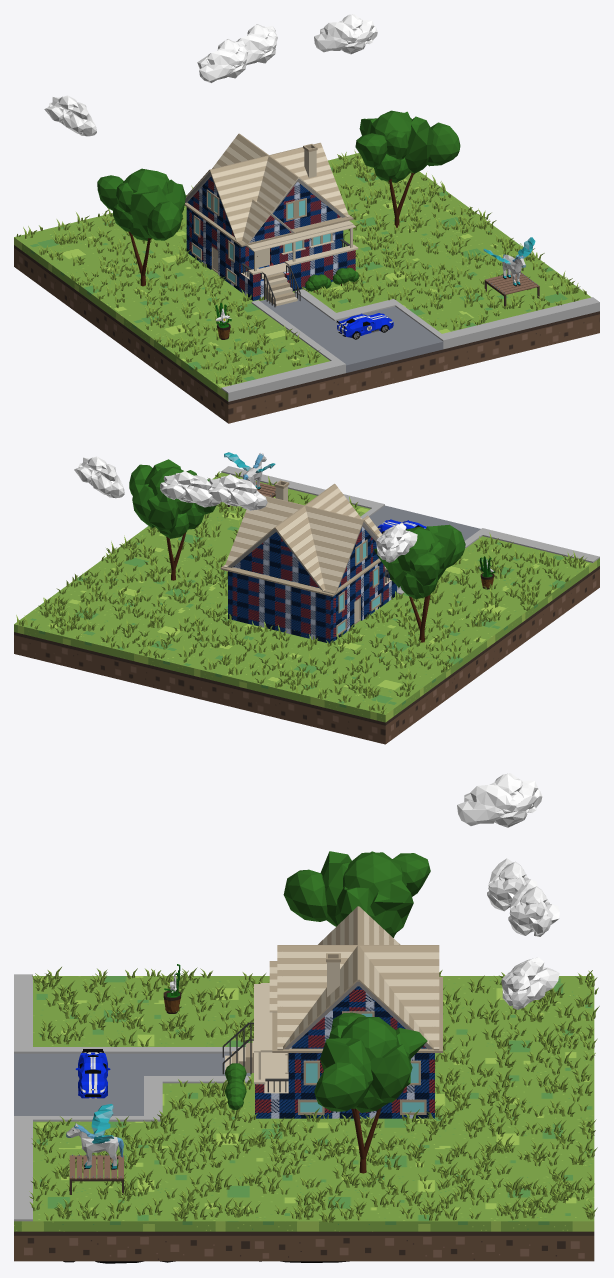
3 renders of one model, top to bottom at view 1: azimuth 30°, elevation 25°; view 2: azimuth 150°, elevation 25°; view 3: azimuth 270°, elevation 25°, orthographic. The views are drawn at different scales.
Parts seen in each view (by area): view 1: Cube.006, Cube.171, Circle.012_Grass_0.192, Cube.007, tree, tree.001, VEHICLES_RACING_CAR, ANIMAL_PEGASO, Cube.009; view 2: Cube.006, Cube.171, Circle.012_Grass_0.192, Cube.007, tree.001, tree, ANIMAL_PEGASO; view 3: Cube.006, Circle.012_Grass_0.192, Cube.171, tree, Cube.007, tree.001, ANIMAL_PEGASO, VEHICLES_RACING_CAR, Cube.009.
Part boxes in pixels (bbox=[...]): Cube.006: bbox=[14, 153, 599, 423]; Cube.171: bbox=[184, 133, 358, 307]; Circle.012_Grass_0.192: bbox=[16, 150, 586, 385]; Cube.007: bbox=[44, 14, 377, 136]; tree: bbox=[355, 110, 460, 227]; tree.001: bbox=[97, 168, 185, 286]; VEHICLES_RACING_CAR: bbox=[336, 313, 393, 339]; ANIMAL_PEGASO: bbox=[483, 237, 535, 286]; Cube.009: bbox=[484, 272, 539, 306]; Cube.006: bbox=[14, 466, 599, 744]; Cube.171: bbox=[220, 480, 396, 643]; Circle.012_Grass_0.192: bbox=[16, 471, 586, 713]; Cube.007: bbox=[74, 456, 417, 562]; tree.001: bbox=[373, 524, 465, 642]; tree: bbox=[129, 459, 216, 580]; ANIMAL_PEGASO: bbox=[224, 452, 275, 489]; Cube.006: bbox=[14, 974, 594, 1261]; Circle.012_Grass_0.192: bbox=[29, 967, 599, 1222]; Cube.171: bbox=[222, 906, 442, 1118]; tree: bbox=[314, 1012, 427, 1173]; Cube.007: bbox=[457, 773, 559, 1009]; tree.001: bbox=[283, 851, 430, 937]; ANIMAL_PEGASO: bbox=[66, 1104, 123, 1169]; VEHICLES_RACING_CAR: bbox=[75, 1049, 110, 1098]; Cube.009: bbox=[69, 1154, 123, 1194].
Bounding box in the file's own units: 4071 × 2149 × 4040.
Materials: 36 (4 with a texture image).
